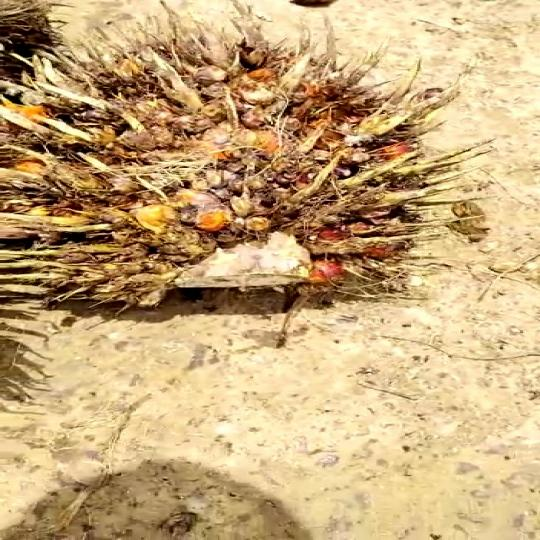terlalu masak: (0, 28, 464, 326)
